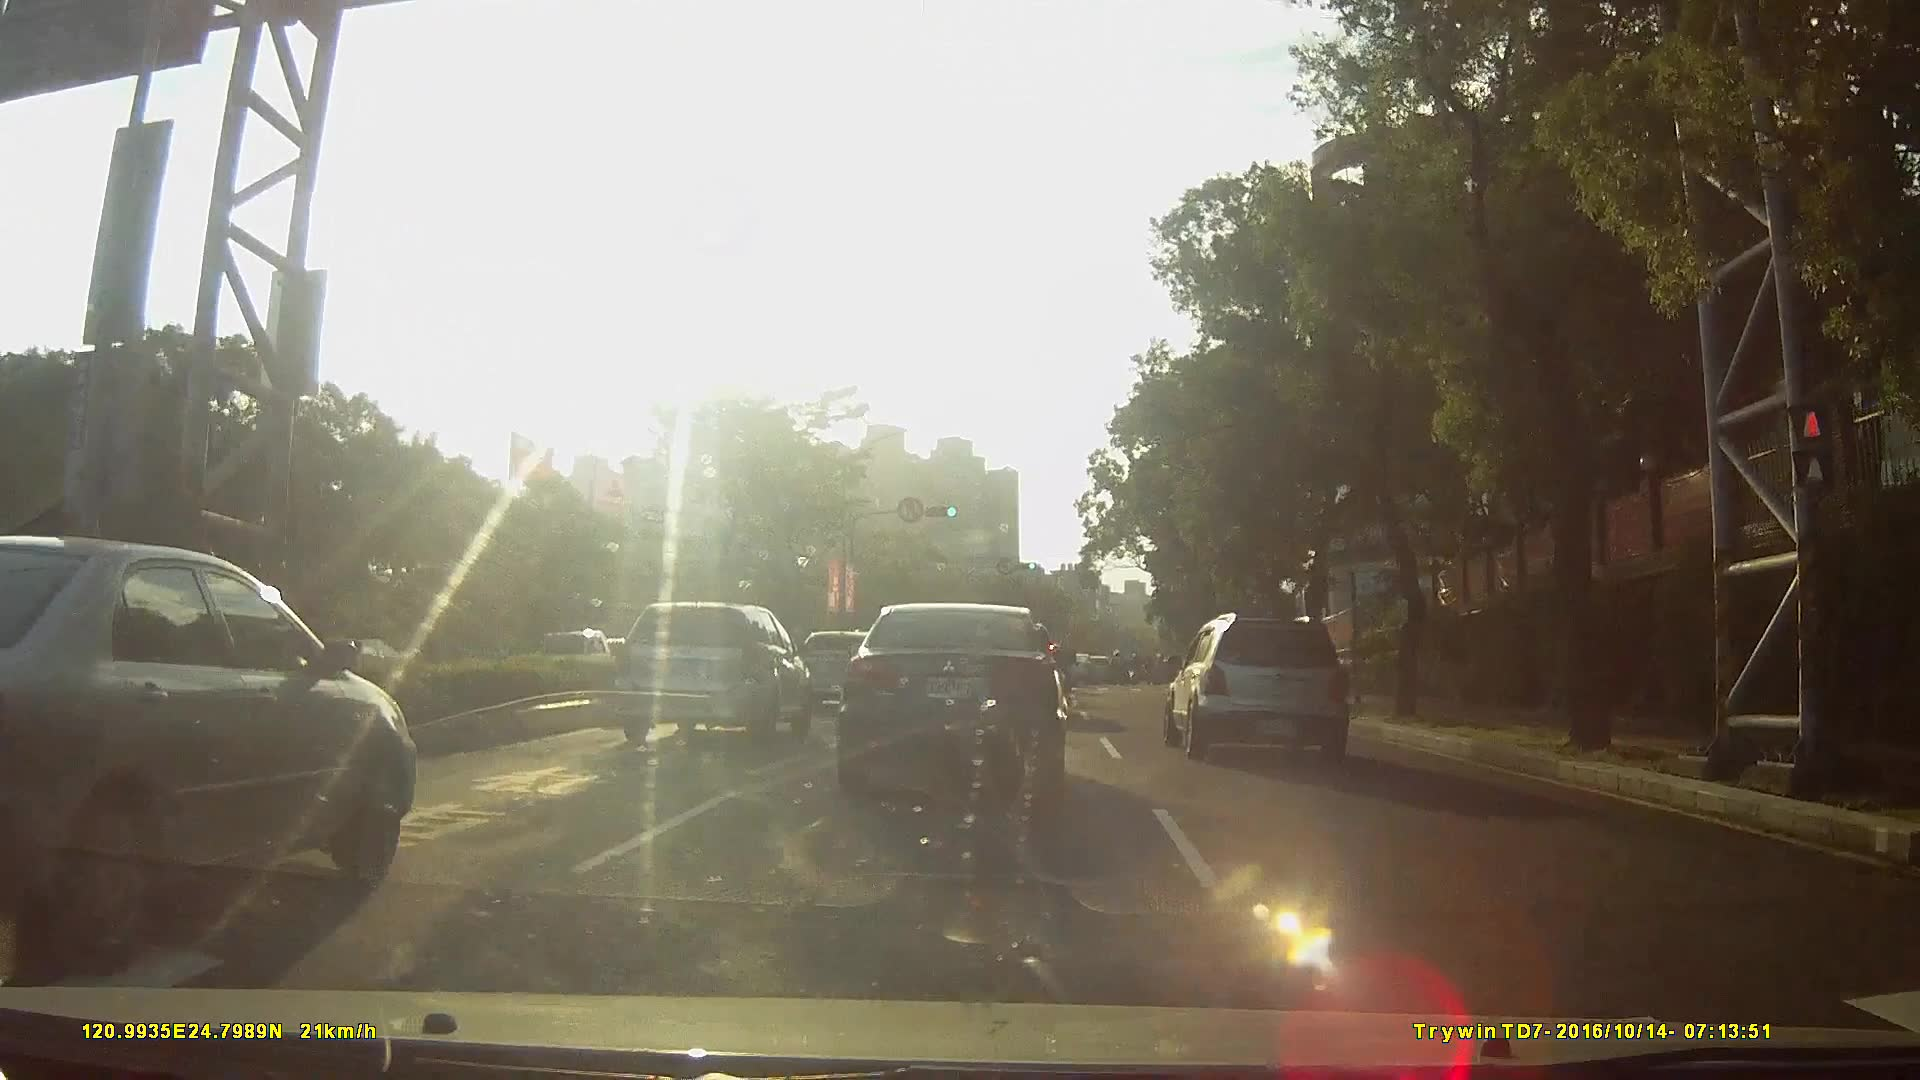vehicle: (1, 527, 431, 969), (837, 597, 1067, 804), (1158, 607, 1366, 758), (608, 601, 812, 746), (1059, 651, 1095, 684), (1080, 653, 1114, 684)
